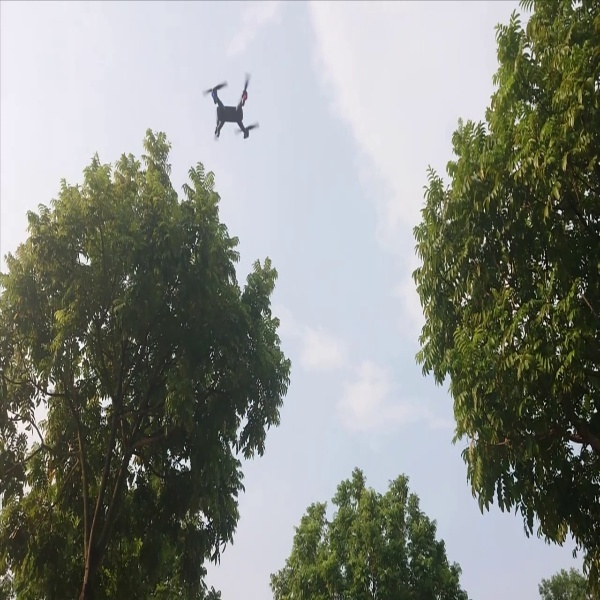drone: (194, 65, 270, 151)
